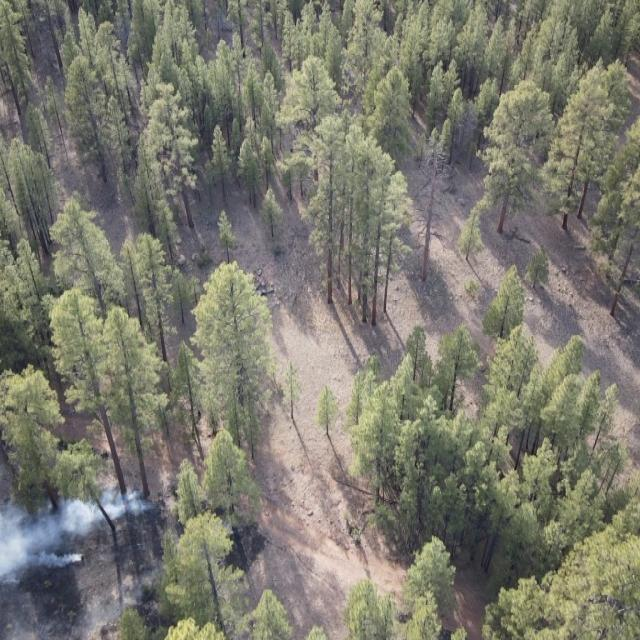fire: (118, 501, 129, 512)
smoke: (0, 482, 165, 590)
